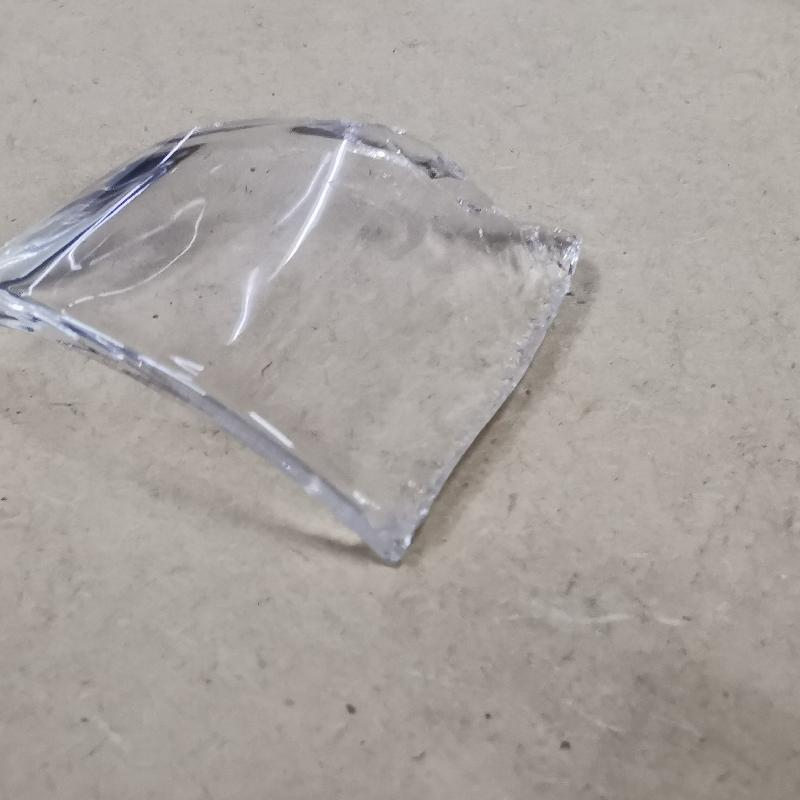glass: (3, 111, 586, 566)
